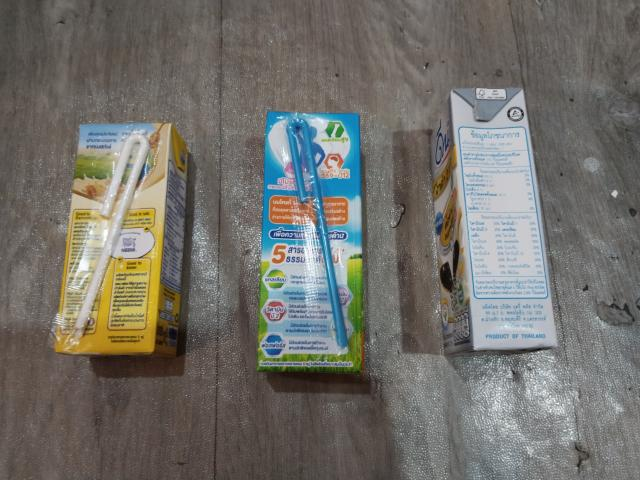drink_box: (431, 86, 559, 358), (52, 117, 186, 362), (250, 106, 370, 373)
